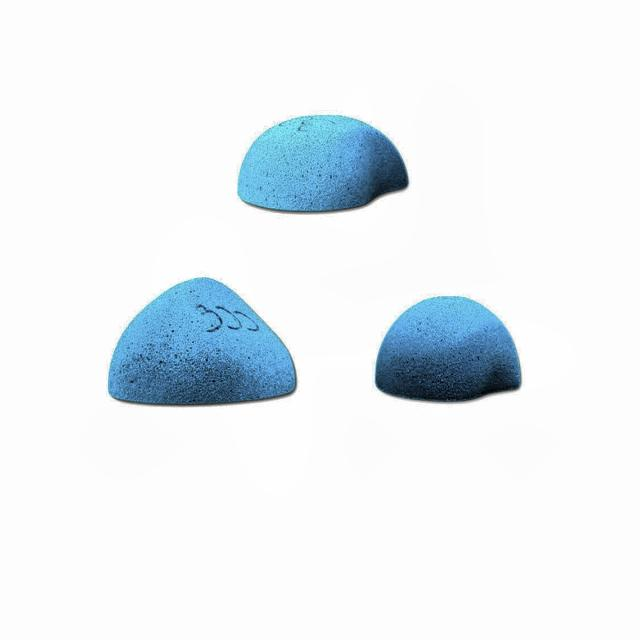Hold: (110, 276, 300, 406), (240, 116, 411, 214), (377, 300, 527, 402)
